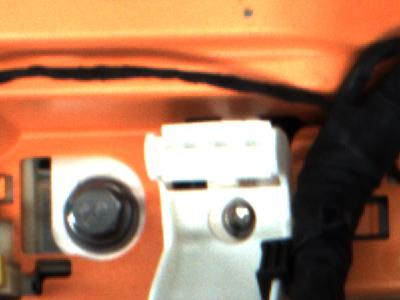nut_b: (55, 173, 144, 256)
